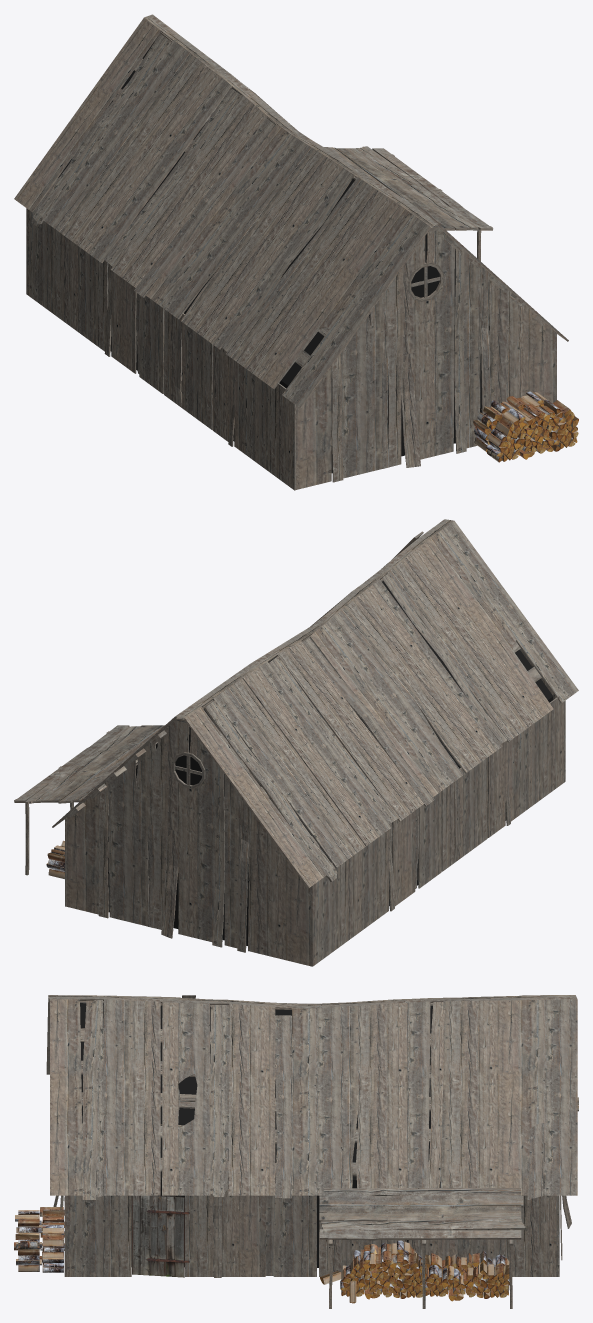
File: shed_1.fbx
3 renders of one model, top to bottom at view 1: azimuth 30°, elevation 25°; view 2: azimuth 150°, elevation 25°; view 3: azimuth 270°, elevation 25°, orthographic. The views are drawn at different scales.
Visible parts, largest first — view 1: shed_1, logs_stock_2; view 2: shed_1; view 3: shed_1, logs_stock, logs_stock._small, logs_stock_2.
Boxes of the visible parts, box(x1,y1,x2,y2) form: shed_1: box(14, 14, 568, 490); logs_stock_2: box(473, 391, 578, 462); shed_1: box(14, 519, 578, 966); shed_1: box(46, 995, 578, 1308); logs_stock: box(320, 1240, 426, 1303); logs_stock._small: box(425, 1251, 509, 1301); logs_stock_2: box(14, 1207, 64, 1272).
Bounding box in the file's own units: 7.76 × 5.13 × 11.79.
